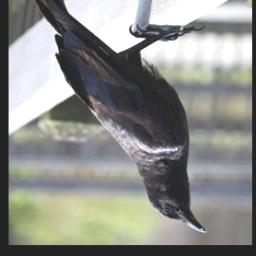Crow: (30, 0, 207, 234)
